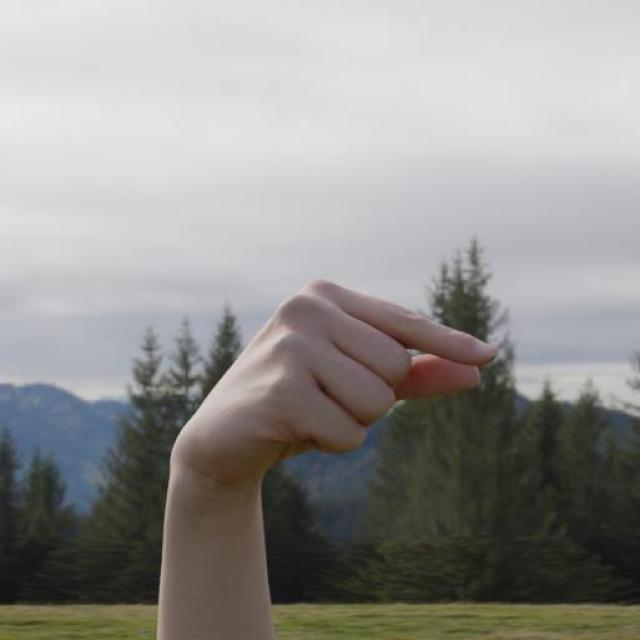G: (166, 274, 501, 488)
